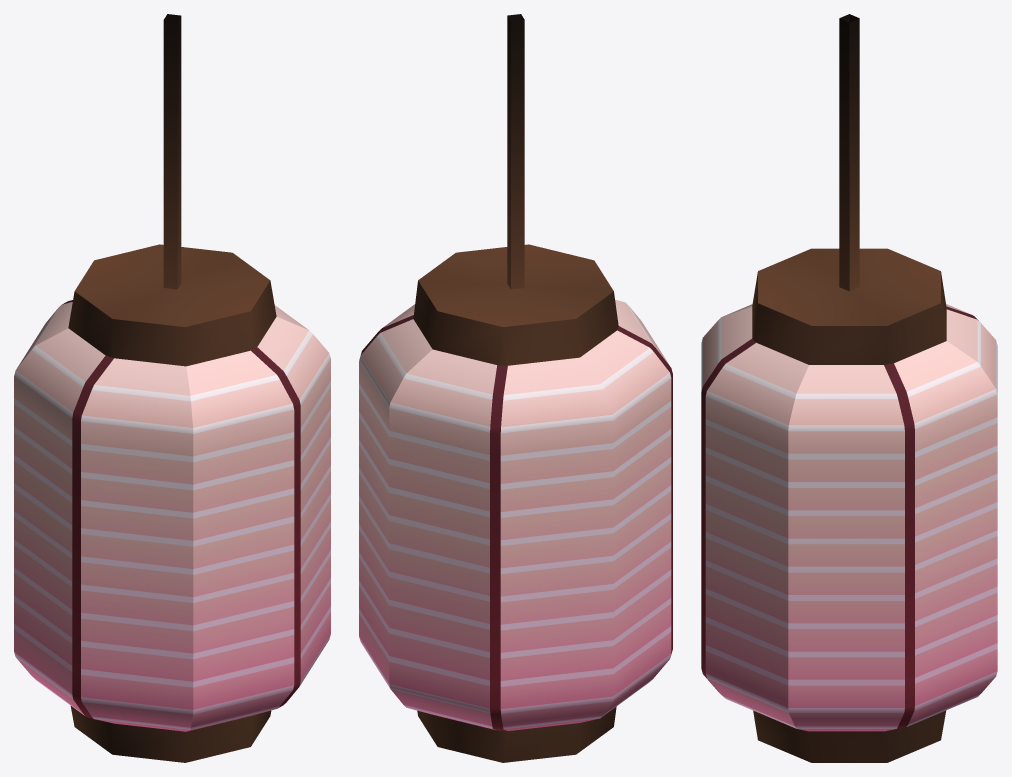
The model's file is SK_Lantern_002.FBX.
The picture shows the model from 3 angles, left to right: view 1: azimuth 30°, elevation 25°; view 2: azimuth 150°, elevation 25°; view 3: azimuth 270°, elevation 25°; orthographic projection.
Parts seen in each view (by area): view 1: SK_Lantern_002_Light, SK_Lantern_002; view 2: SK_Lantern_002_Light, SK_Lantern_002; view 3: SK_Lantern_002_Light, SK_Lantern_002.
Boxes of the visible parts, box(x1,y1,x2,y2) form: SK_Lantern_002_Light: box(14, 302, 330, 731); SK_Lantern_002: box(62, 14, 300, 762); SK_Lantern_002_Light: box(359, 299, 671, 730); SK_Lantern_002: box(361, 14, 672, 762); SK_Lantern_002_Light: box(701, 304, 997, 731); SK_Lantern_002: box(701, 14, 978, 762).
Size of the model in its own units: 49.98 by 132 by 49.98.
